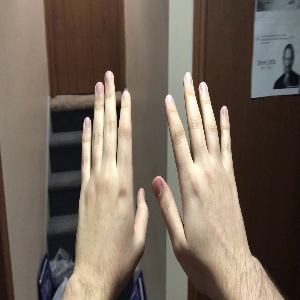hand: (151, 72, 251, 265), (77, 69, 149, 271)
